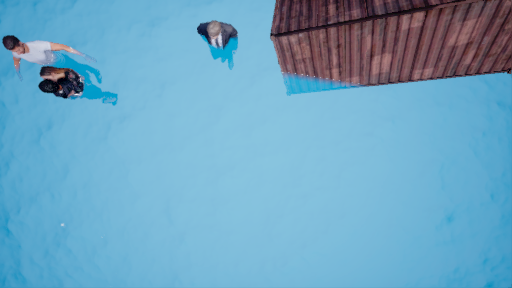person: (6, 34, 114, 112), (190, 19, 249, 77)
